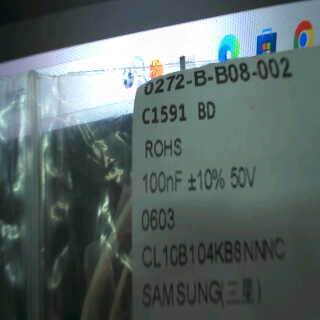100nF: (139, 168, 186, 199)
